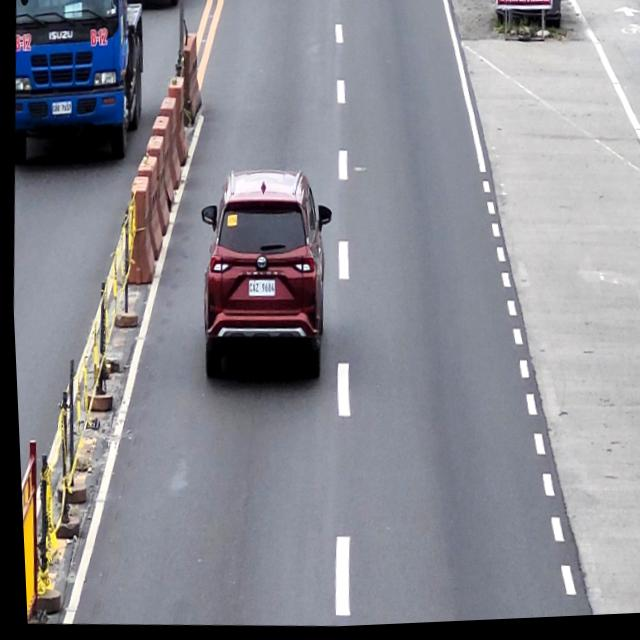Car: (197, 166, 328, 383)
License-Plate: (243, 278, 273, 302)
